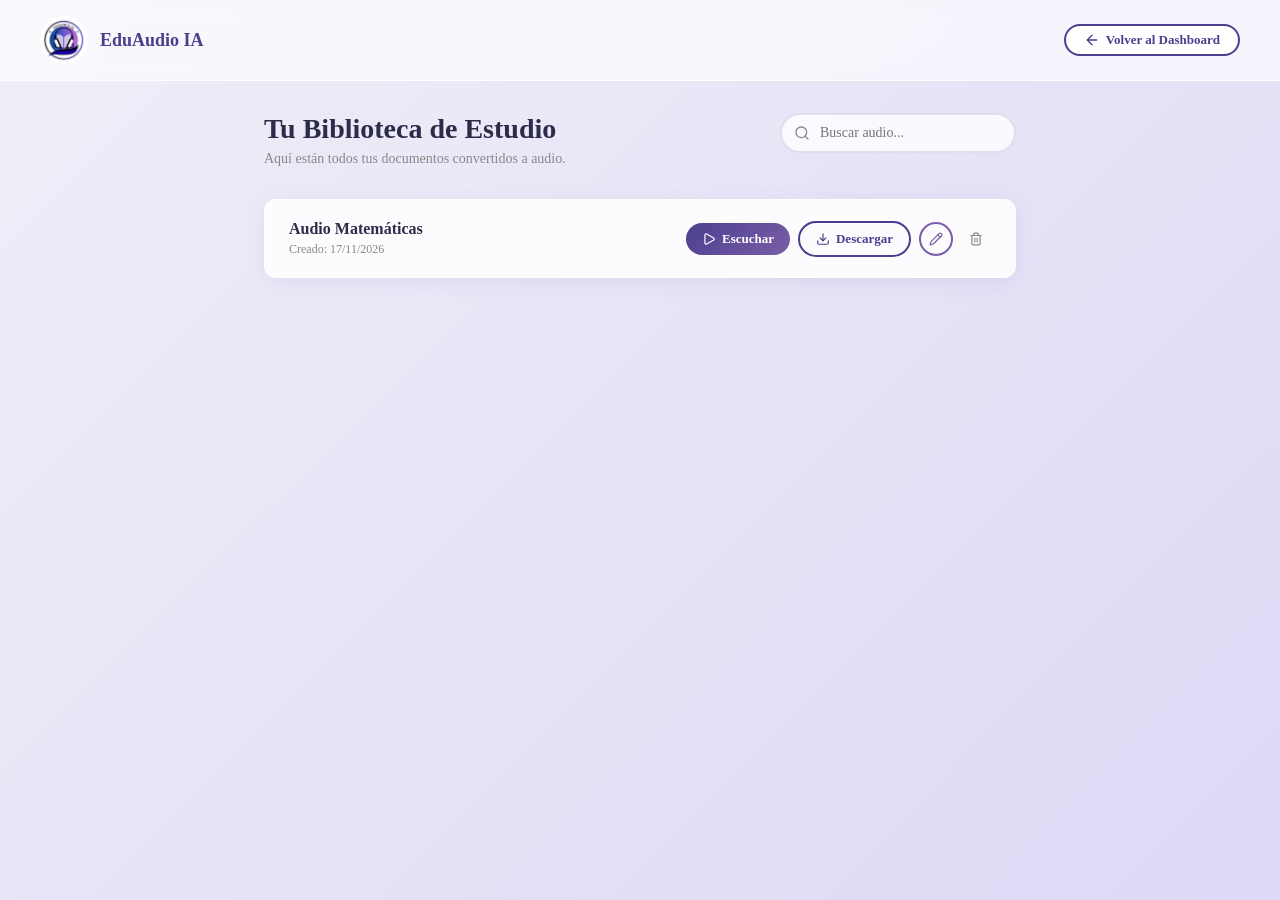
Scenario: MisAudios › abre el modal de renombrar
Click the button named "Renombrar audio" at (936, 238), box [919, 222, 953, 256]
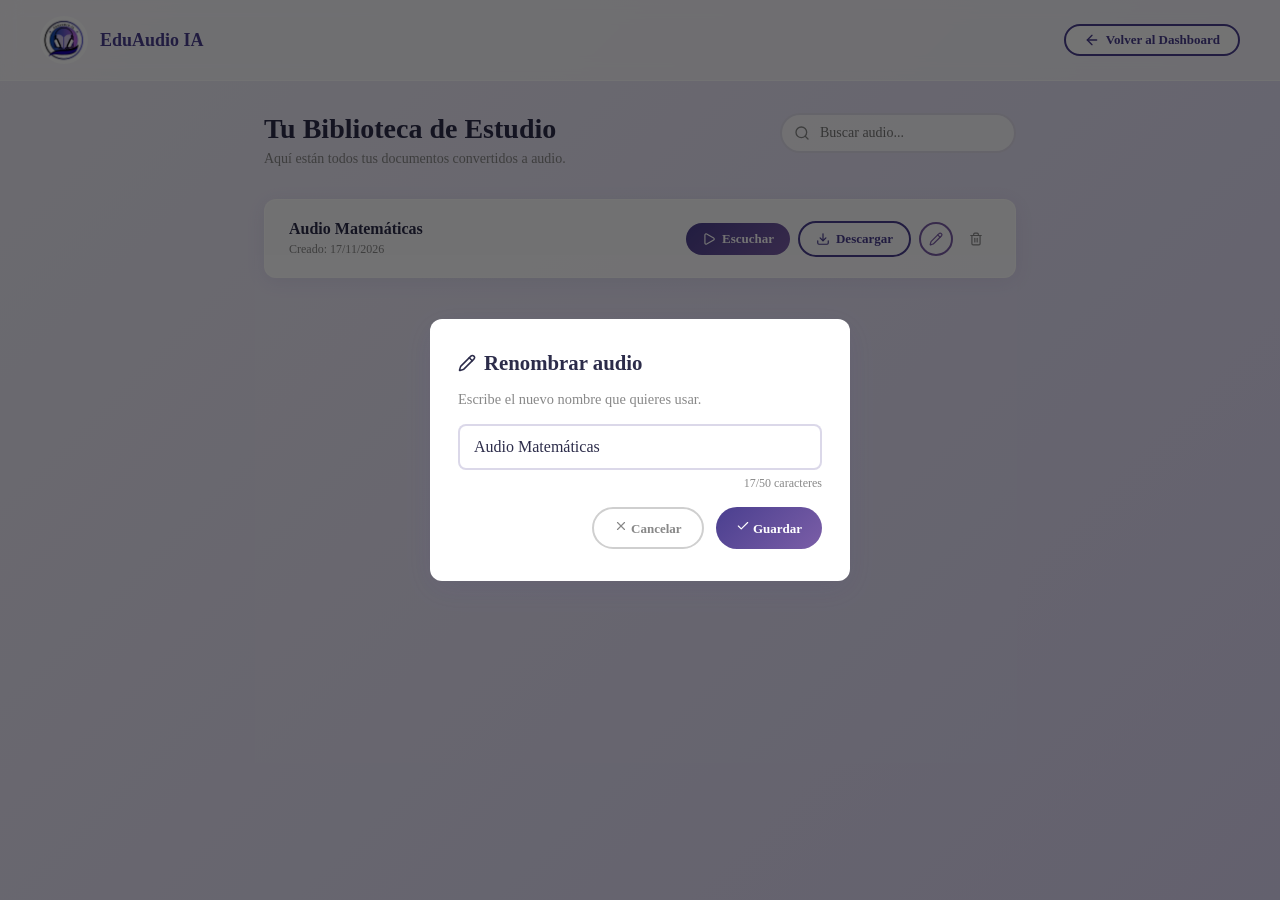
Now the heading "Renombrar audio" is shown, box [458, 351, 642, 374]
